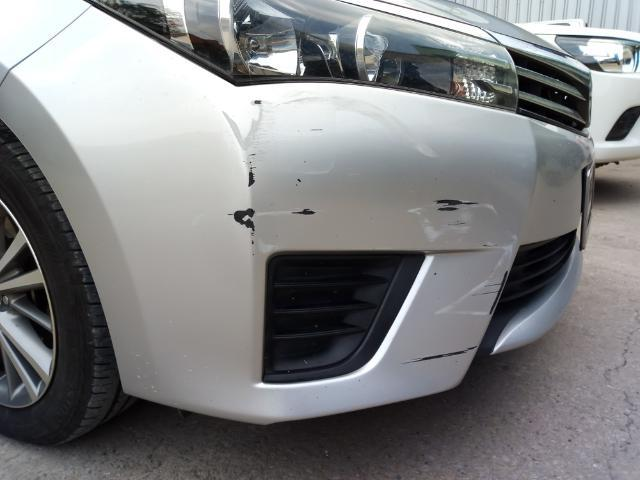scratch: (218, 95, 448, 250), (405, 194, 518, 320), (396, 341, 477, 365)
